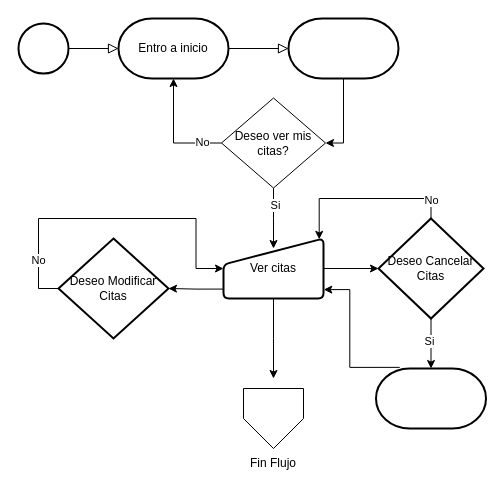
Some shapes in this 504 by 495 pixel diagram are drawn without their labels. Here are the shapes that lost their labels. From the top down, the box of each, then its label:
(17, 22, 69, 74): Inicio
(287, 17, 399, 79): Entro en agenda
(374, 367, 486, 429): Formulario modificar cita
